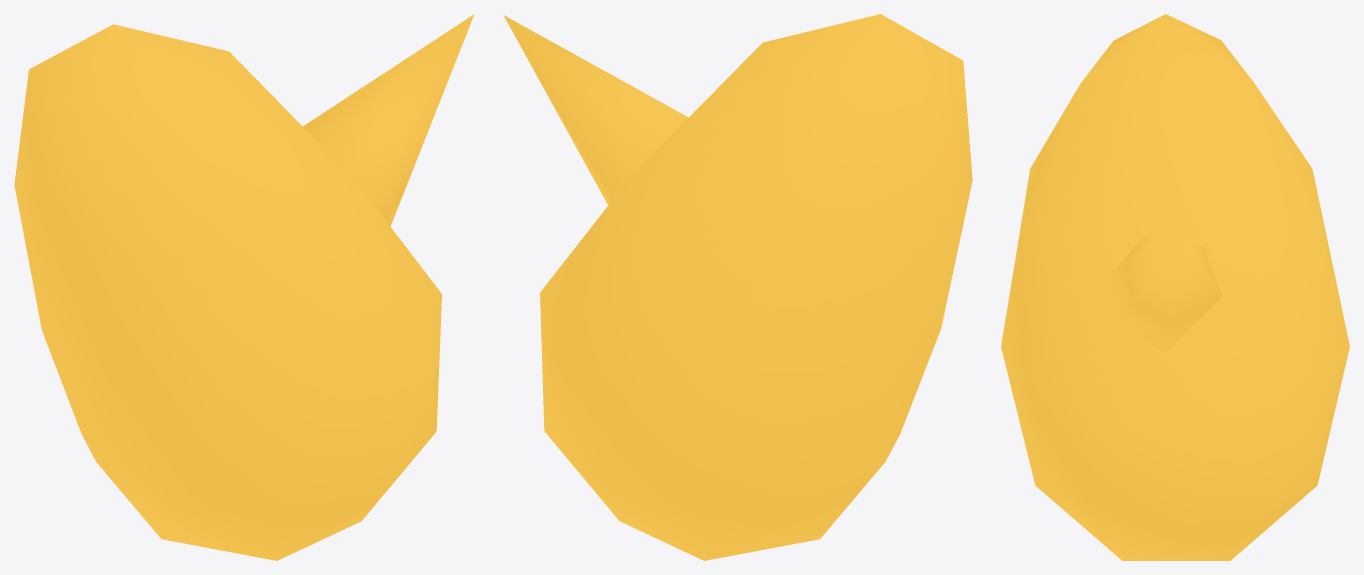
Rendered from rock_type_01.glb.
3 views of the same model, side by side, from view 1: azimuth 30°, elevation 25°; view 2: azimuth 150°, elevation 25°; view 3: azimuth 270°, elevation 25° (orthographic). The views are drawn at different scales.
Visible parts, largest first — view 1: big_rocks; view 2: big_rocks; view 3: big_rocks.
Part boxes in pixels (box(x1,y1,x2,y2)): big_rocks: box(14, 14, 474, 560); big_rocks: box(503, 14, 972, 560); big_rocks: box(1001, 14, 1349, 560).
Size of the model in its own units: 1.32 by 1.6 by 1.05.
